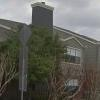Chimney: (27, 3, 59, 33)
